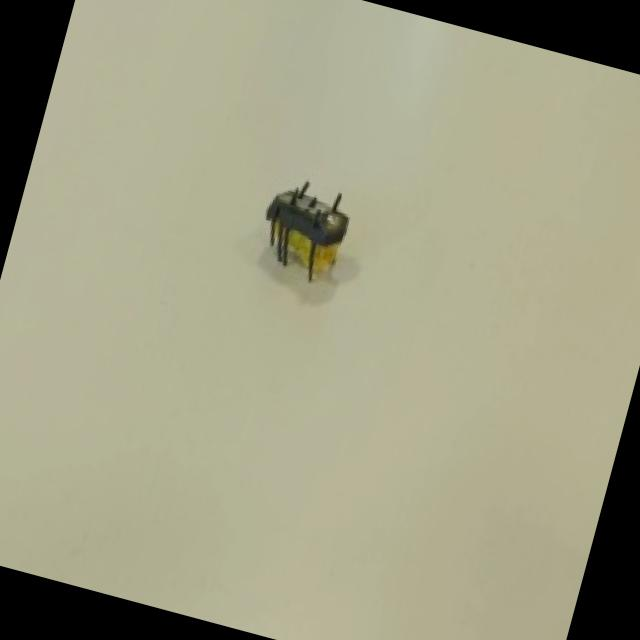6_NanoBug_GrisOscuro: (244, 152, 386, 319)
